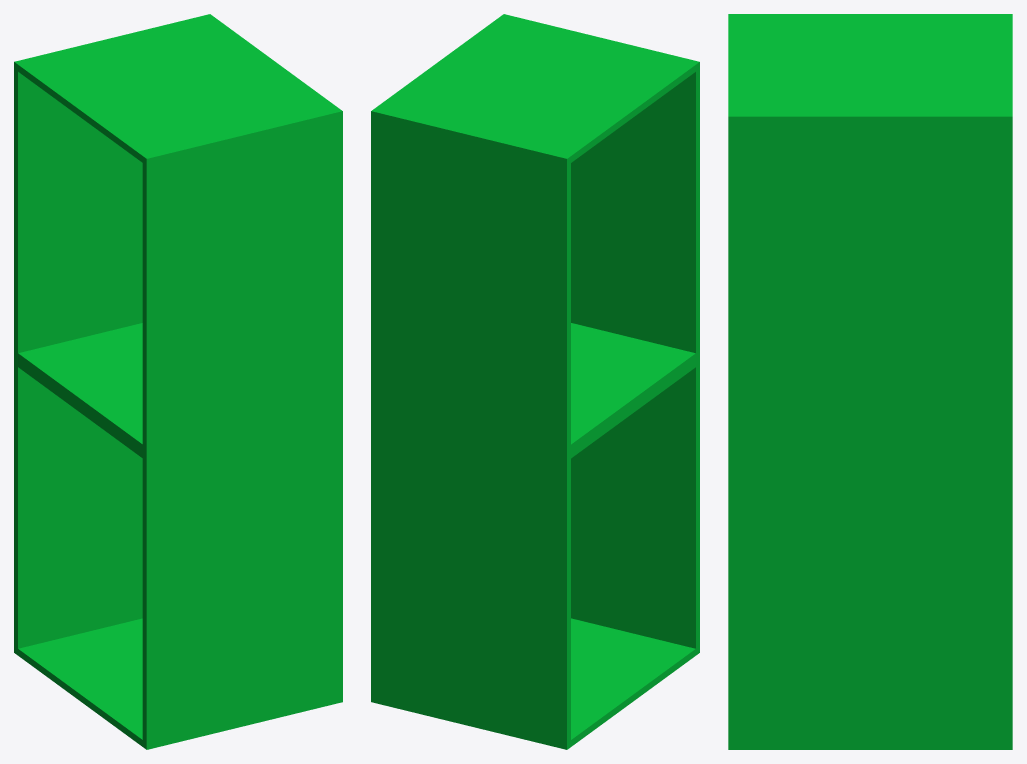
The model's file is khungfridge.obj.
3 renders of one model, left to right at view 1: azimuth 30°, elevation 25°; view 2: azimuth 150°, elevation 25°; view 3: azimuth 270°, elevation 25°, orthographic. The views are drawn at different scales.
Parts seen in each view (by area): view 1: Cabinet1_Mesh; view 2: Cabinet1_Mesh; view 3: Cabinet1_Mesh.
Part boxes in pixels (<box>): Cabinet1_Mesh: <box>14,14,342,749</box>; Cabinet1_Mesh: <box>371,14,699,749</box>; Cabinet1_Mesh: <box>728,14,1012,749</box>.
Bounding box in the file's own units: 2.21 × 6.35 × 2.59.
